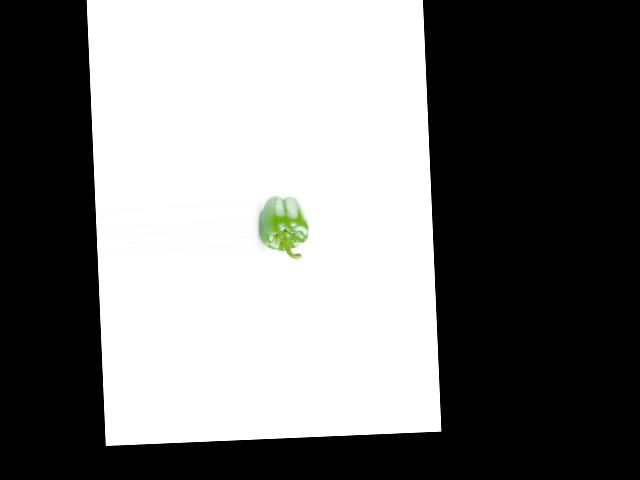bell_pepper: (258, 193, 310, 262)
